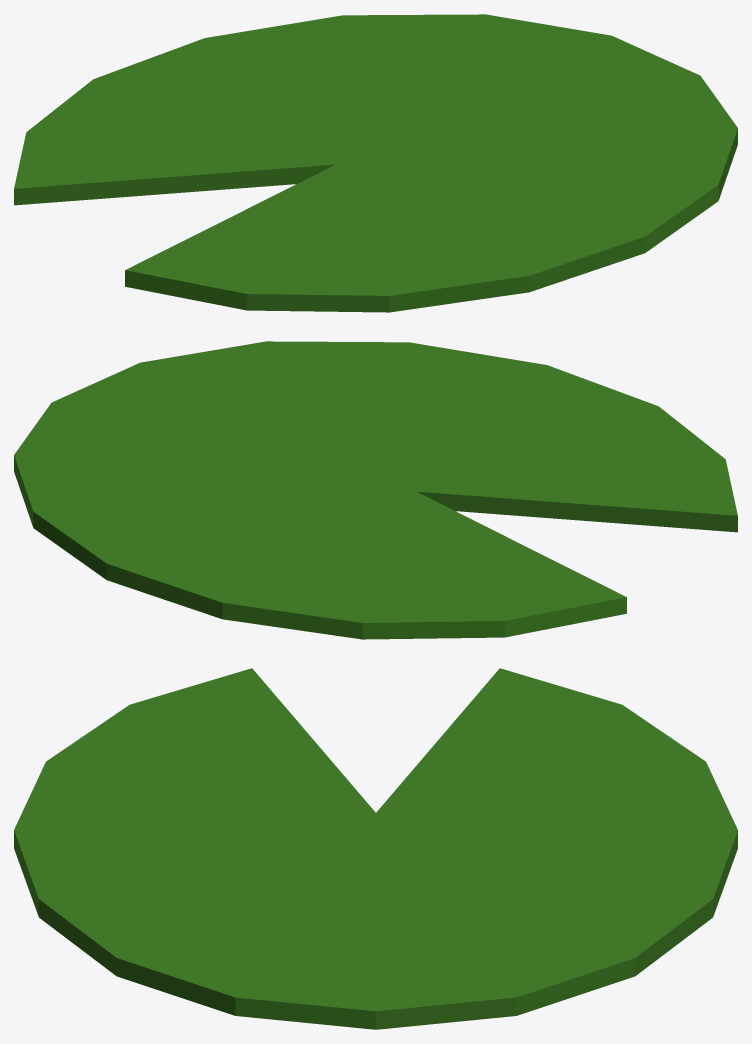
Rendered from N25_LilyPad.fbx.
3 renders of one model, top to bottom at view 1: azimuth 30°, elevation 25°; view 2: azimuth 150°, elevation 25°; view 3: azimuth 270°, elevation 25°, orthographic. The views are drawn at different scales.
Parts seen in each view (by area): view 1: N25_LilyPad; view 2: N25_LilyPad; view 3: N25_LilyPad.
Part boxes in pixels (x1,y1,x2,y2): N25_LilyPad: [14, 14, 737, 312]; N25_LilyPad: [14, 341, 737, 639]; N25_LilyPad: [14, 668, 737, 1029].
Size of the model in its own units: 0.7177 by 0.018 by 0.6398.
Materials: 1 (1 with a texture image).
